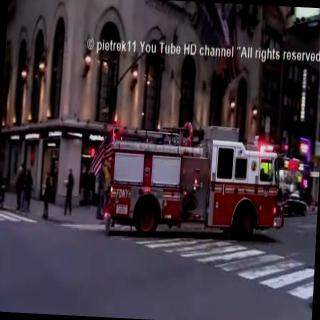Fire_truck: (99, 117, 290, 244)
